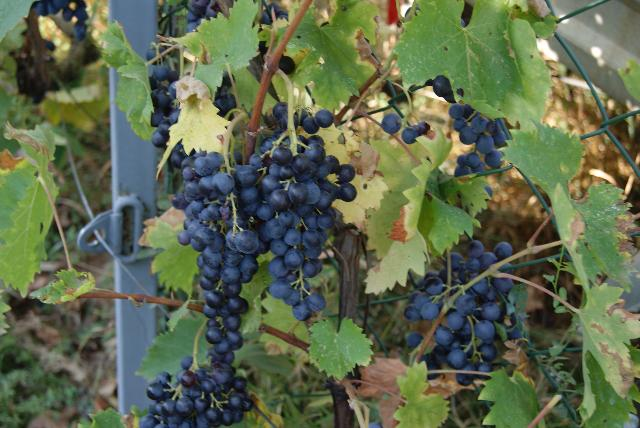grapes: (235, 138, 358, 320), (171, 152, 260, 360), (404, 241, 512, 372), (139, 350, 255, 428), (432, 75, 506, 178), (374, 109, 433, 146)
